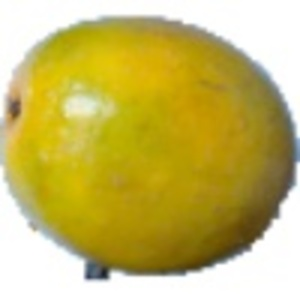maracujá: (1, 14, 300, 283)
